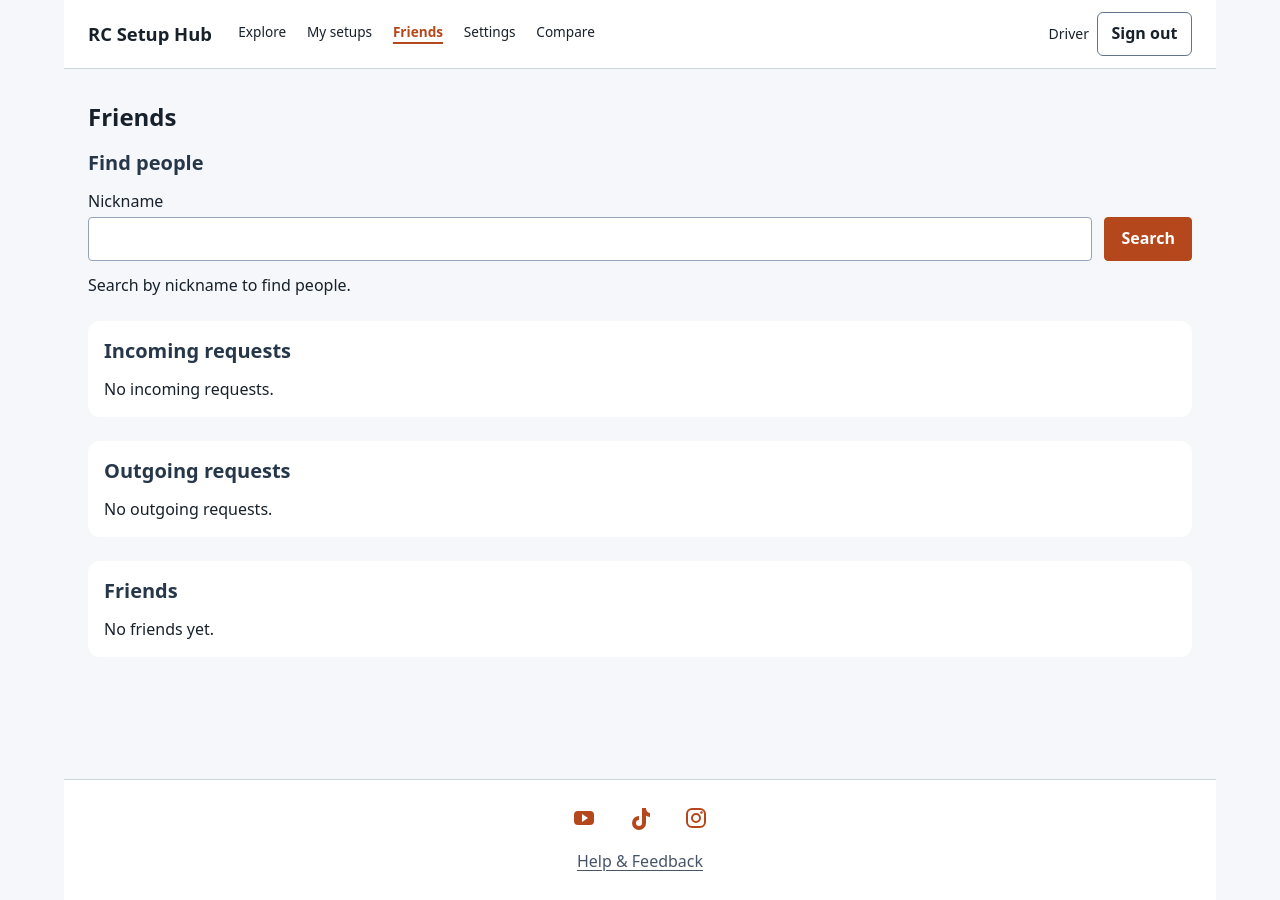
Scenario: send 409 refetches raced incoming state without retrying POST
This screenshot has width=1280, height=900.
Type "driver" into the field labelled "Nickname" at (590, 239), box left=88, top=217, right=1092, bottom=261
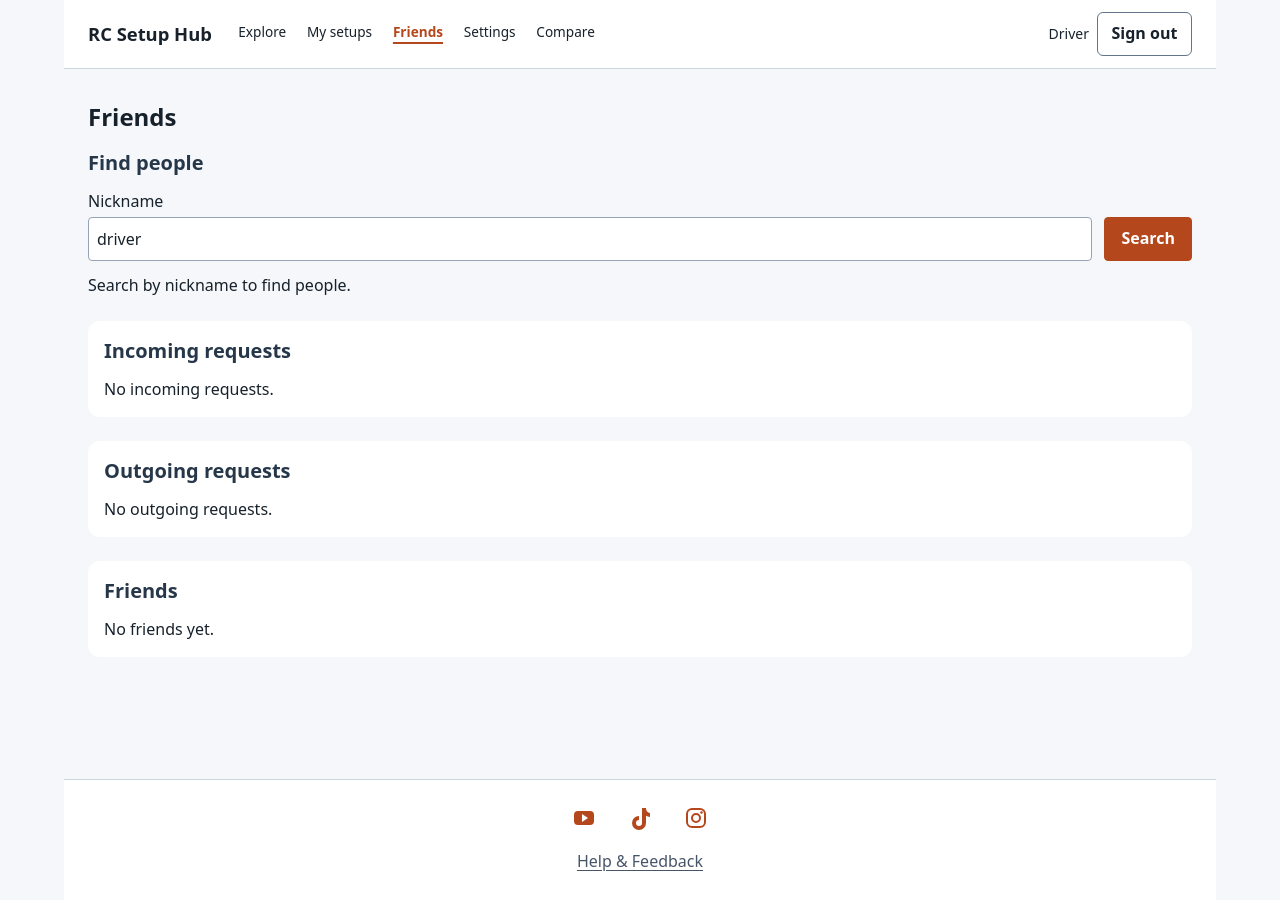
Click the button "Search" at (1148, 239), box left=1104, top=217, right=1192, bottom=261
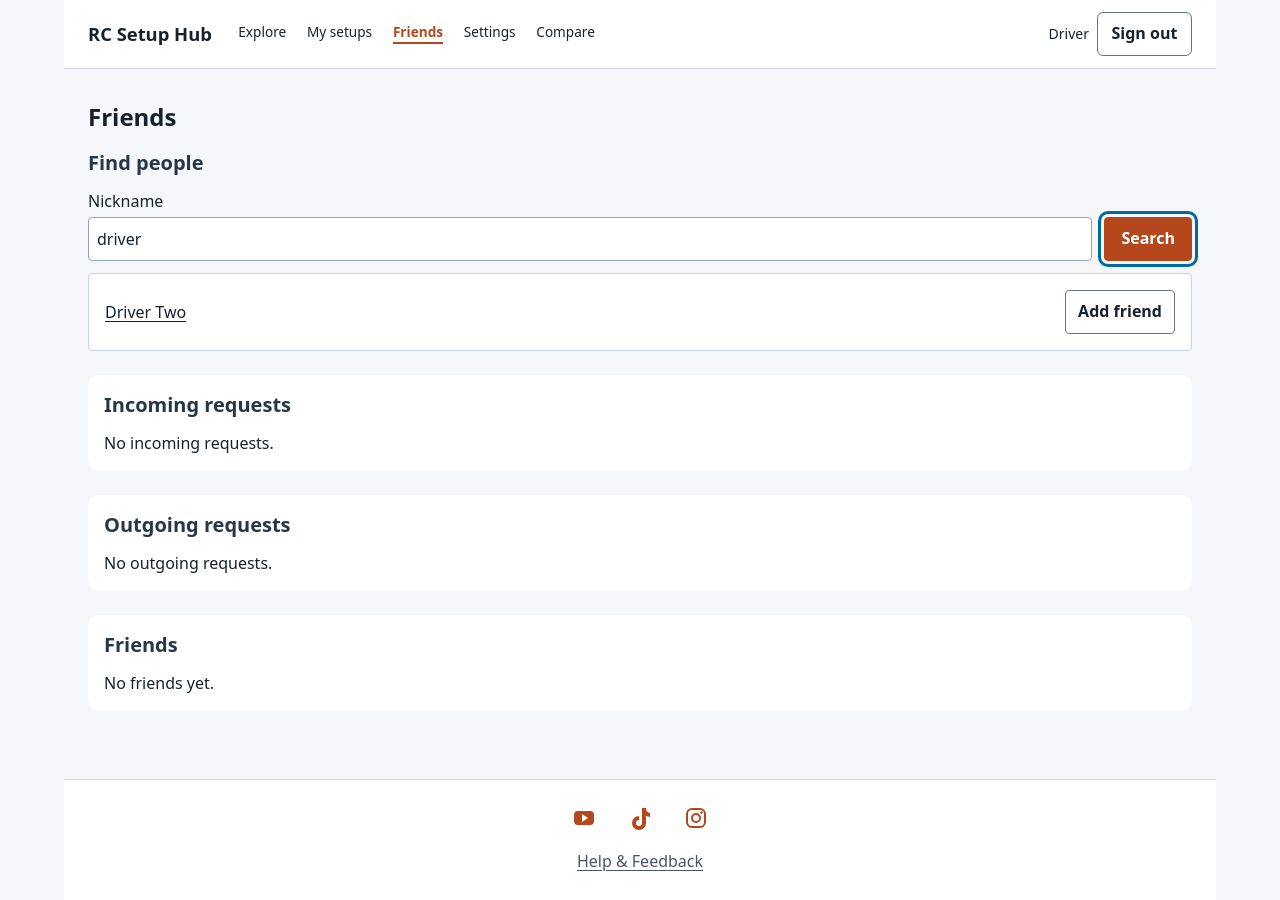
Click the button "Add friend" at (1120, 312), box left=1065, top=290, right=1175, bottom=334
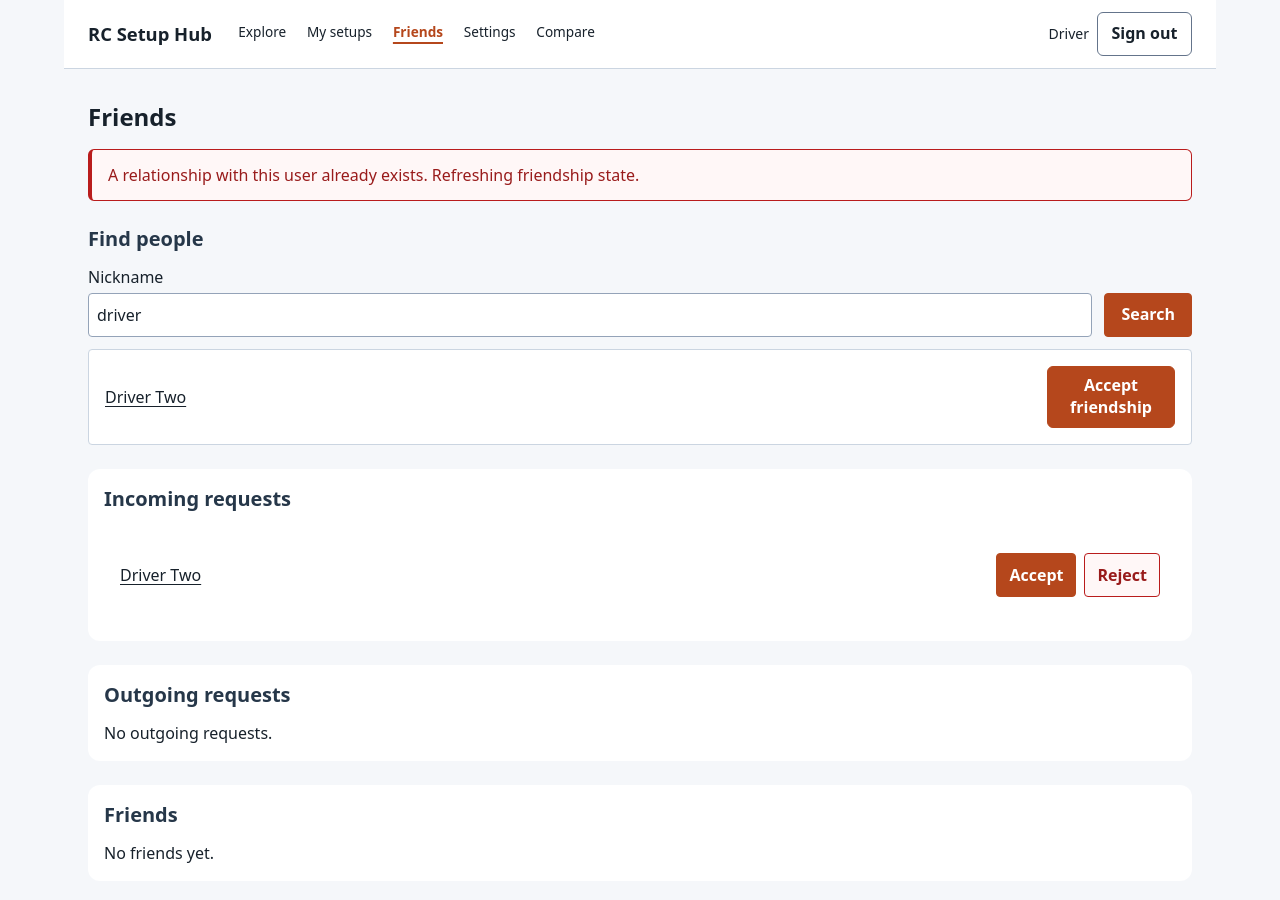
Expected: the message shows "A relationship with this user already exists", left=108, top=164, right=639, bottom=186
Expected: the button "Accept friendship" is shown, left=1047, top=366, right=1175, bottom=428
Expected: the button "Add friend" is gone
